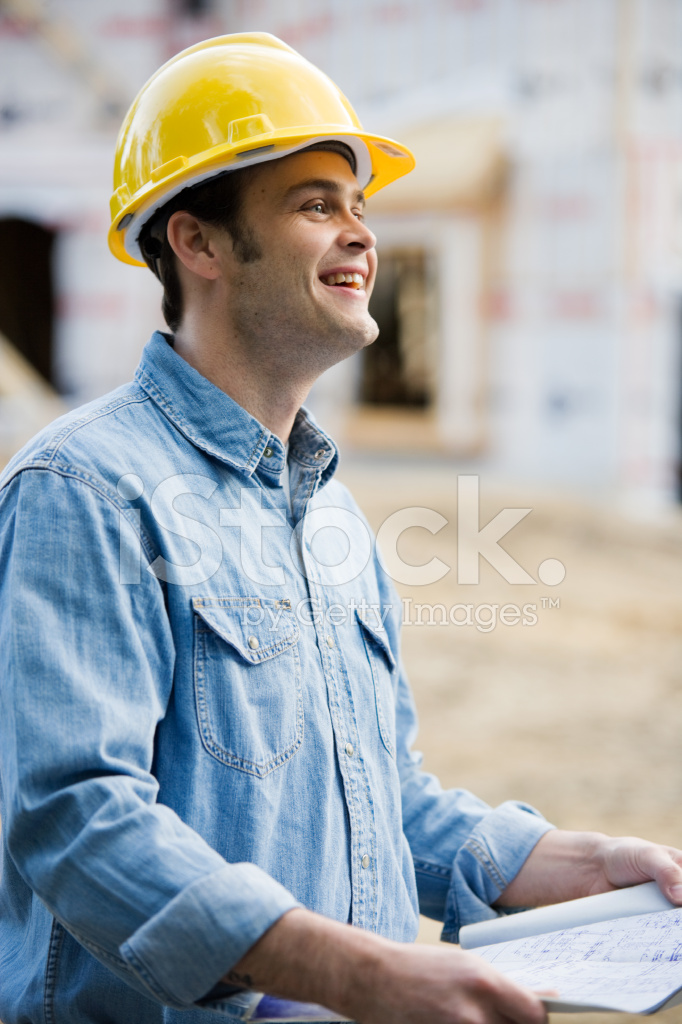Person_wearing_helmet: (101, 15, 410, 251)
